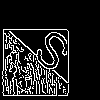S: (25, 26, 75, 83)
